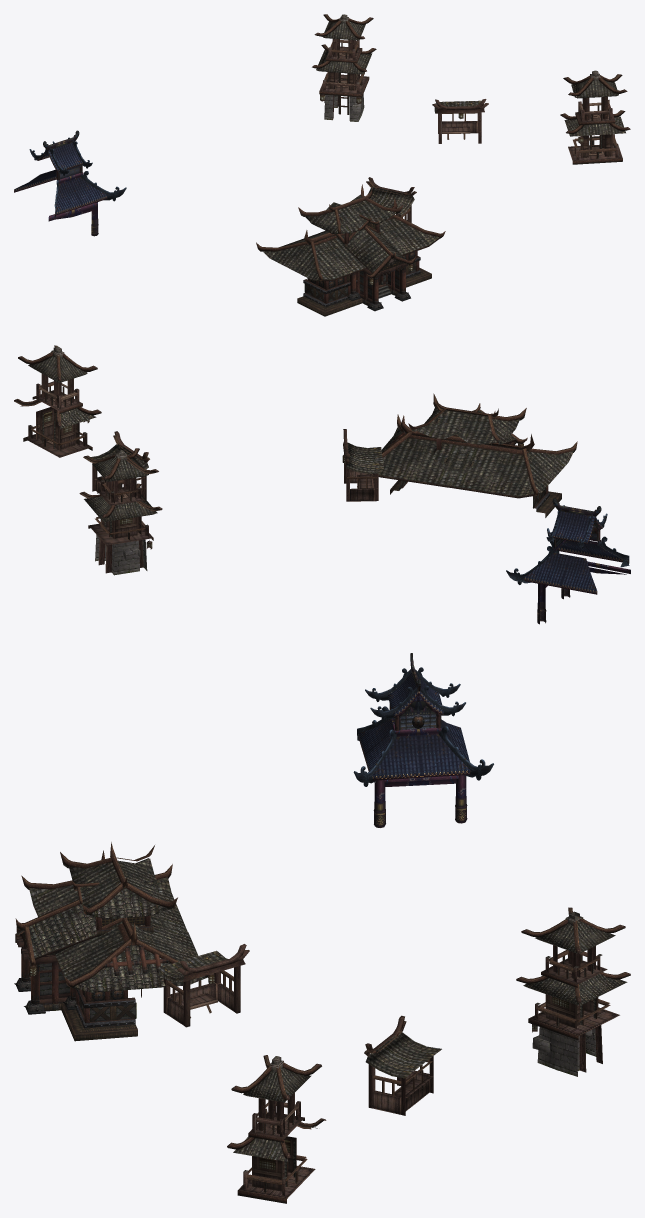
File: forest_02_house_01.FBX
The picture shows the model from 3 angles, top to bottom: view 1: azimuth 30°, elevation 25°; view 2: azimuth 150°, elevation 25°; view 3: azimuth 270°, elevation 25°; orthographic projection. The views are drawn at different scales.
Parts seen in each view (by area): view 1: forest_02_house_01; view 2: forest_02_house_01; view 3: forest_02_house_01.
Boxes of the visible parts, x1,y1,x2,y2 form: forest_02_house_01: (14,14,630,316); forest_02_house_01: (14,345,630,624); forest_02_house_01: (14,653,630,1203).
Size of the model in its own units: 114 by 24.39 by 72.9.
Materials: 1 (1 with a texture image).
